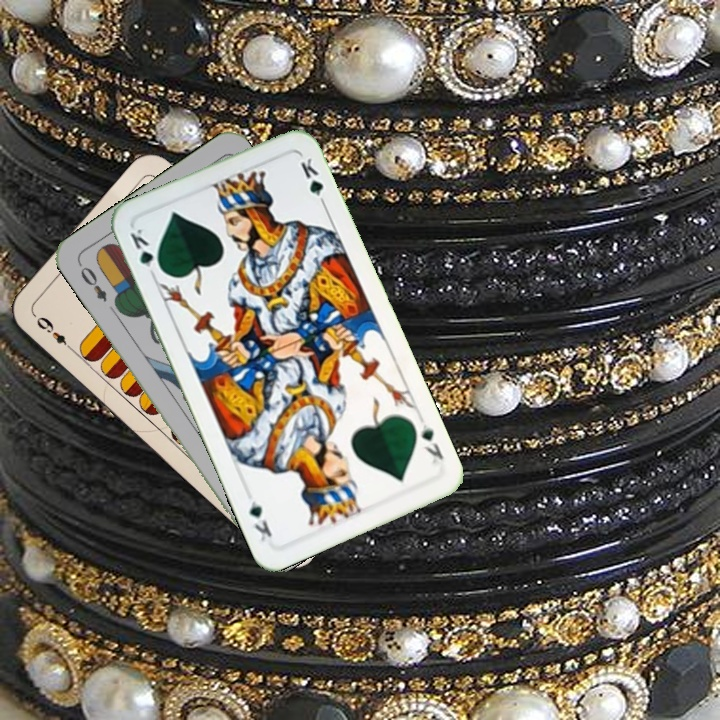E9: (28, 309, 76, 354)
EO: (76, 262, 110, 305)
GK: (126, 224, 165, 280), (416, 419, 446, 467)
